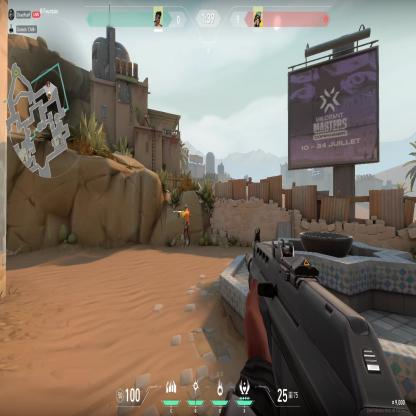enemy: (177, 202, 192, 249)
